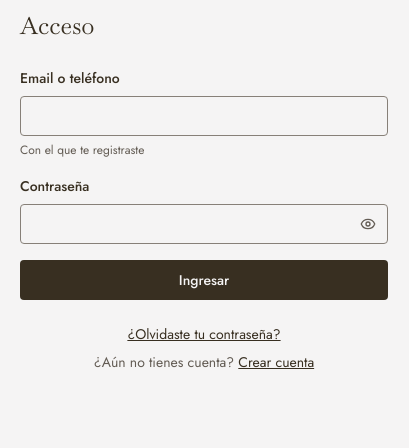
Test: LoginPage › credenciales inválidas: mensaje genérico en un alert, sin revelar qué falló
In the field labelled "Email o teléfono": (204, 116) [20,96,388,136], type "ana@test.com"
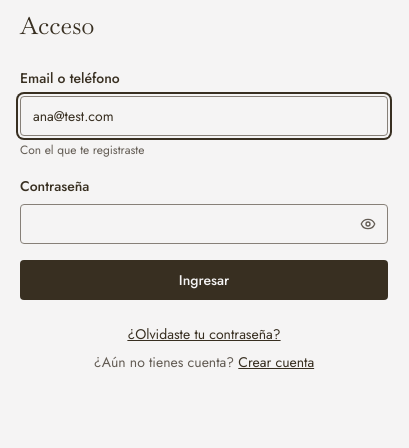
In the password field labelled "Contraseña": (204, 224) [20,204,388,244], type "mala"
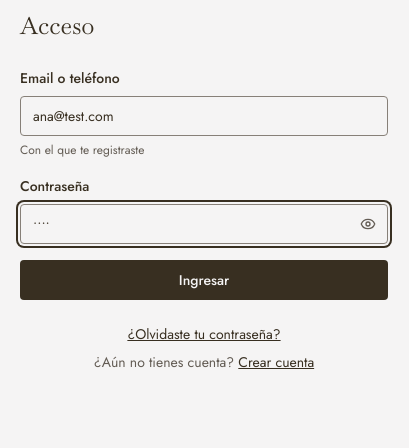
Click the button "Ingresar": (204, 280) [20,260,388,300]
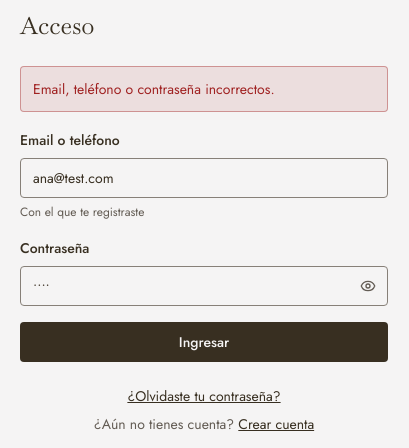
Expected: the message reads "Email, teléfono o contraseña incorrectos.", [33,79,275,99]
